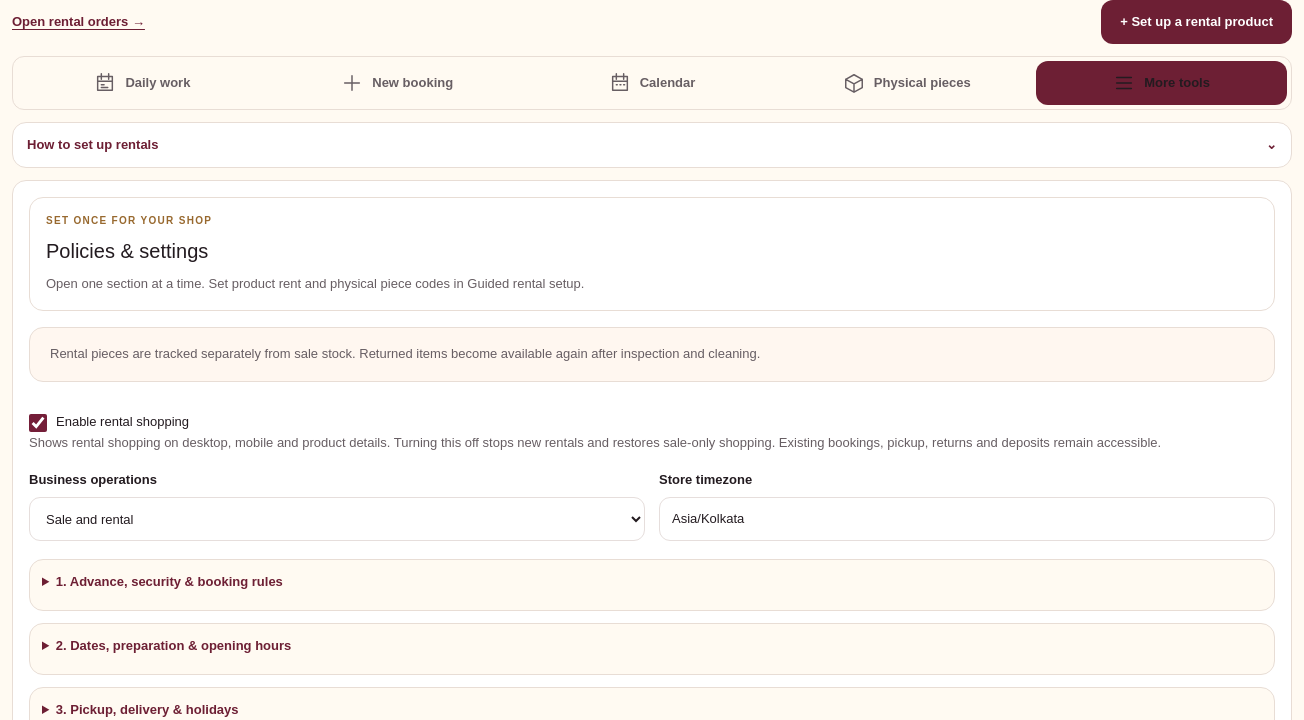
direct settings links render and saving rental mode refreshes the studio warning without reloading
Check: the heading "Policies & settings" is shown, box [46,240,208,262]
Click the checkbox labelled "Enable rental shopping" at [38, 423], box [29,414,47,432]
(page scrolled)
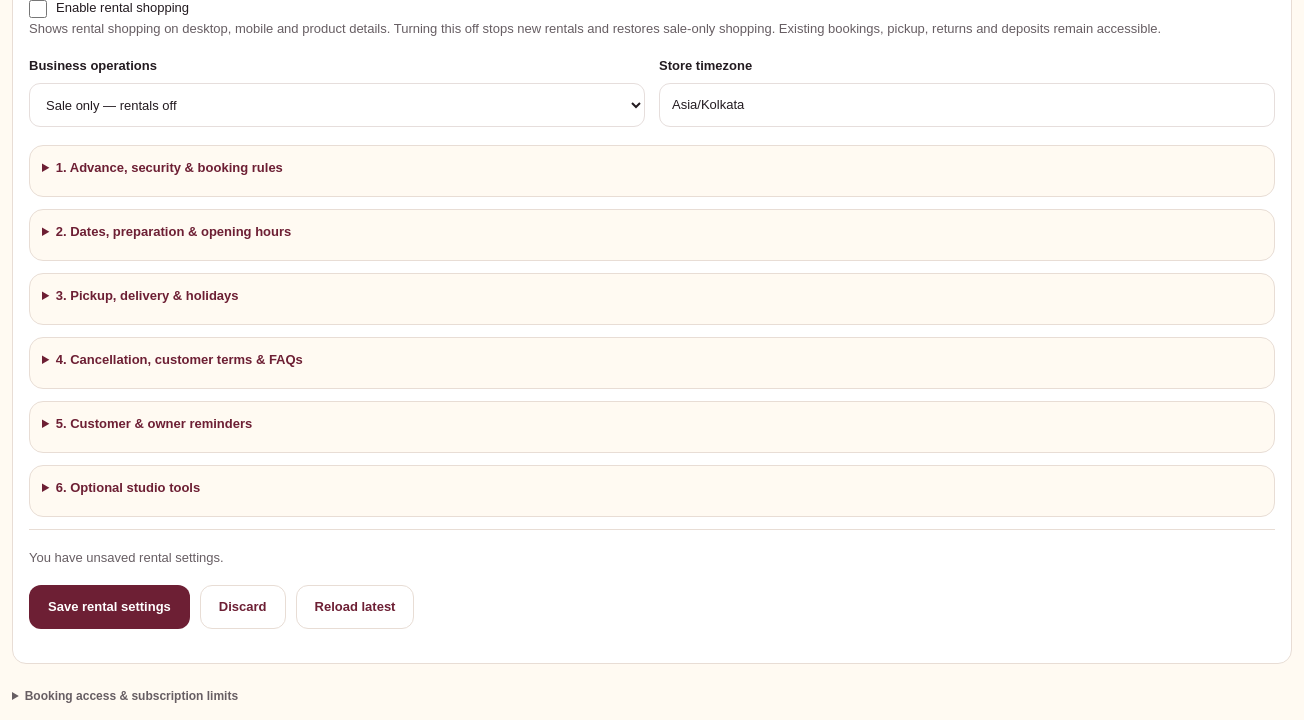
Click the button "Save rental settings" at [109, 607], box [29,585,190,629]
(page scrolled)
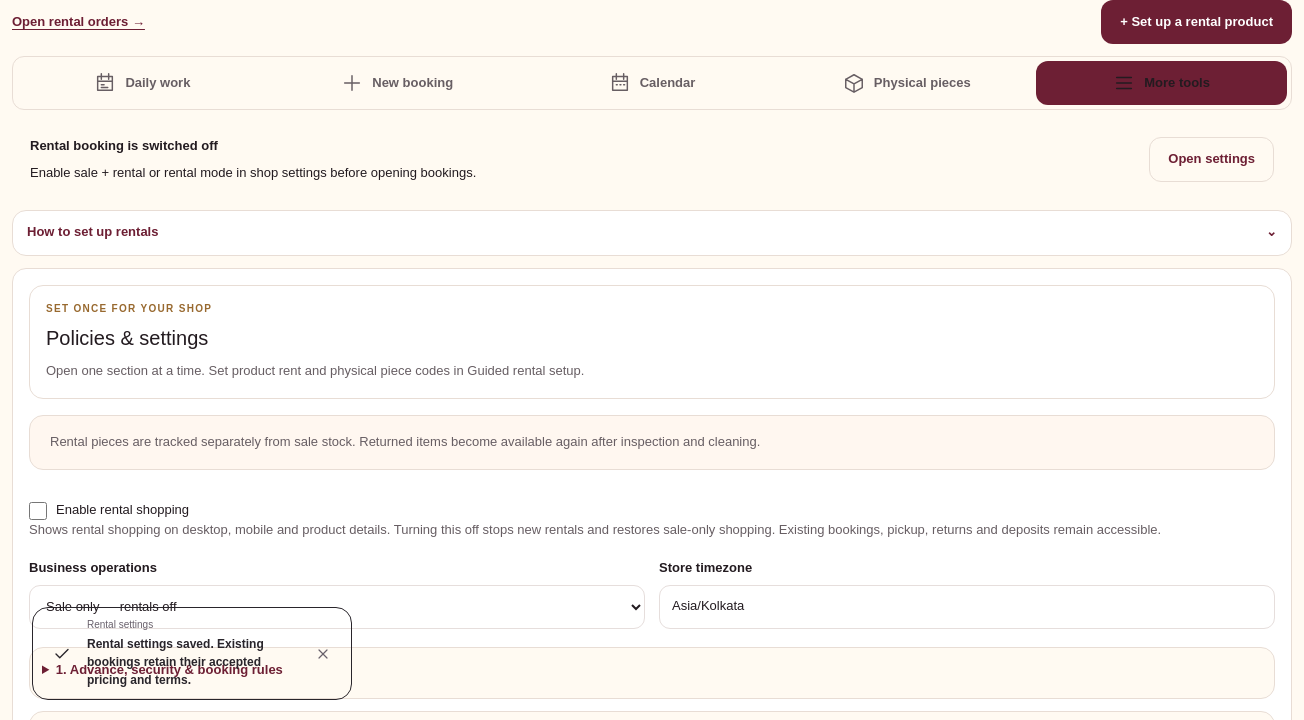
Check: the text "Rental booking is switched off" is shown, box [30,138,218,153]
